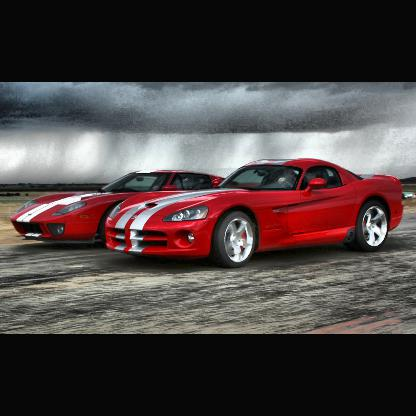Ford GT Coupe 2006: (105, 158, 407, 269)
